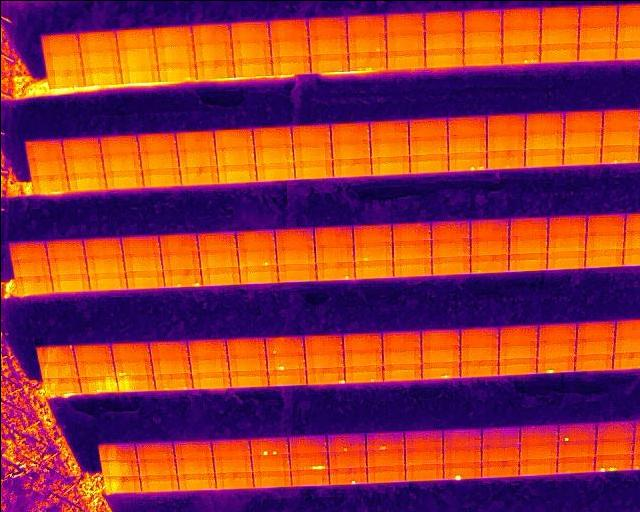Cell: (315, 261, 353, 280), (347, 33, 386, 51), (536, 355, 575, 373), (557, 423, 595, 441), (238, 247, 275, 265), (366, 431, 403, 449), (443, 461, 480, 479), (421, 362, 459, 379), (327, 434, 364, 451), (344, 365, 381, 382), (329, 467, 366, 484), (267, 352, 303, 369), (307, 367, 345, 383)
Cell-Multi: (501, 45, 540, 65), (448, 151, 486, 171), (601, 145, 638, 164), (594, 453, 632, 471), (163, 269, 200, 287), (251, 437, 287, 455)
No-Anomaly: (578, 4, 618, 26), (525, 111, 564, 132), (563, 110, 602, 131), (409, 152, 448, 173), (76, 30, 116, 50), (353, 223, 391, 244), (371, 155, 409, 176), (463, 8, 501, 29), (540, 6, 578, 27), (602, 108, 640, 129), (313, 225, 352, 245), (307, 16, 346, 36), (384, 12, 423, 32), (431, 255, 470, 275), (424, 11, 463, 31), (501, 8, 540, 28), (485, 113, 524, 133), (447, 116, 486, 136), (386, 49, 425, 69), (463, 45, 502, 65), (330, 121, 369, 141), (84, 237, 122, 257), (547, 214, 585, 234), (347, 13, 385, 33), (369, 119, 407, 139), (292, 123, 330, 143), (370, 137, 408, 157), (584, 248, 623, 267), (431, 238, 470, 257), (392, 221, 431, 240), (469, 218, 508, 237), (178, 165, 217, 184), (231, 39, 270, 58), (595, 420, 634, 439), (233, 57, 272, 76), (155, 45, 194, 64), (498, 324, 537, 343), (460, 327, 499, 346), (176, 131, 215, 150), (256, 160, 293, 180), (218, 162, 255, 182), (116, 28, 153, 48), (83, 64, 120, 84), (253, 126, 290, 146), (47, 239, 82, 260), (103, 151, 138, 172), (508, 251, 546, 270), (276, 245, 314, 264), (392, 239, 430, 258), (431, 220, 469, 239), (294, 159, 332, 178), (578, 42, 616, 61), (386, 31, 424, 50), (269, 18, 307, 37), (277, 262, 315, 281), (201, 266, 239, 285), (354, 259, 392, 278), (562, 146, 600, 165), (425, 47, 463, 66), (117, 47, 155, 66), (540, 43, 578, 62), (538, 323, 576, 342), (524, 148, 562, 167), (486, 150, 524, 169), (254, 143, 292, 162), (214, 128, 252, 147), (408, 136, 446, 155), (142, 167, 178, 187), (41, 33, 77, 53), (153, 26, 193, 44), (470, 254, 507, 273), (289, 435, 326, 454), (140, 149, 177, 168), (216, 146, 253, 165), (199, 248, 238, 266), (353, 242, 392, 260), (586, 214, 625, 232), (392, 257, 431, 275), (442, 429, 481, 447), (481, 426, 520, 444), (498, 341, 537, 359), (408, 118, 447, 136), (25, 139, 60, 159), (308, 35, 346, 53), (270, 37, 308, 55), (332, 159, 370, 177), (86, 254, 124, 272), (546, 251, 584, 269), (121, 235, 157, 254), (159, 233, 197, 251), (508, 235, 546, 253), (105, 170, 141, 189), (540, 26, 578, 44), (502, 27, 540, 45), (463, 29, 501, 47), (424, 30, 462, 48), (88, 272, 126, 290), (576, 321, 614, 339), (519, 440, 557, 458), (135, 441, 173, 459), (481, 443, 519, 461), (175, 440, 211, 459), (310, 53, 348, 71), (271, 55, 309, 73), (121, 64, 157, 83), (196, 59, 232, 78), (519, 457, 557, 475), (348, 50, 386, 68), (574, 353, 612, 371), (382, 330, 420, 348), (367, 464, 405, 482), (486, 133, 524, 151), (331, 140, 369, 158), (32, 174, 69, 192), (239, 265, 276, 283), (191, 370, 228, 388), (344, 348, 381, 366), (177, 148, 214, 166), (525, 132, 562, 150), (138, 133, 175, 151), (195, 42, 230, 61), (45, 50, 80, 69), (66, 154, 101, 173), (101, 135, 136, 154), (274, 228, 313, 245), (236, 229, 275, 246), (197, 231, 236, 248), (314, 245, 353, 262), (585, 232, 624, 249), (230, 22, 269, 39), (536, 340, 575, 357), (420, 329, 459, 346), (162, 252, 198, 270), (68, 172, 104, 190), (193, 24, 229, 42), (49, 257, 85, 275), (117, 373, 153, 391), (150, 341, 186, 359), (305, 334, 341, 352), (470, 238, 508, 255), (547, 234, 585, 251), (509, 218, 547, 235), (126, 270, 164, 287), (404, 430, 442, 447), (366, 449, 404, 466), (519, 425, 557, 442), (481, 460, 519, 477), (405, 463, 443, 480), (48, 68, 82, 87), (157, 63, 195, 80), (383, 364, 421, 381), (459, 359, 497, 376), (382, 348, 420, 365), (291, 469, 329, 486), (63, 138, 97, 157), (293, 143, 331, 160), (448, 135, 486, 152), (99, 442, 134, 460), (74, 343, 109, 361), (189, 338, 224, 356), (123, 253, 160, 270), (405, 447, 442, 464), (80, 50, 117, 67), (138, 458, 175, 475), (498, 357, 535, 374), (421, 345, 458, 362), (343, 333, 380, 350), (10, 242, 43, 261), (13, 257, 46, 276), (577, 26, 616, 42), (562, 131, 601, 147), (215, 471, 251, 488), (178, 473, 214, 490), (29, 157, 65, 174), (214, 455, 250, 472), (329, 450, 365, 467), (252, 454, 288, 471), (212, 439, 248, 456), (80, 376, 116, 393), (268, 368, 304, 385), (266, 336, 302, 353), (556, 456, 594, 472), (575, 339, 613, 355), (601, 129, 639, 145), (141, 474, 176, 491), (155, 372, 190, 389), (177, 457, 212, 474), (231, 369, 266, 386), (228, 338, 263, 355), (306, 350, 341, 367), (112, 342, 147, 359), (53, 274, 86, 292), (38, 345, 71, 363), (558, 441, 595, 457), (595, 439, 634, 454), (77, 359, 111, 376), (115, 358, 149, 375), (254, 470, 290, 486), (190, 354, 226, 370), (442, 447, 480, 462), (17, 275, 50, 292), (102, 459, 137, 475), (229, 354, 264, 370), (40, 361, 75, 377), (460, 345, 497, 360), (105, 476, 139, 492), (151, 359, 186, 373), (44, 378, 78, 392)
Unclassified: (290, 452, 327, 470)
